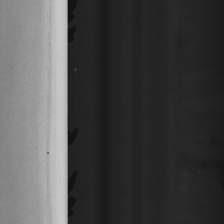oil_spot: (0, 25, 36, 196), (45, 149, 52, 160)
